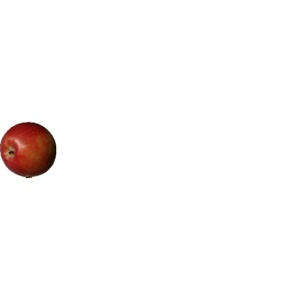maçã braeburn: (1, 118, 58, 180)
